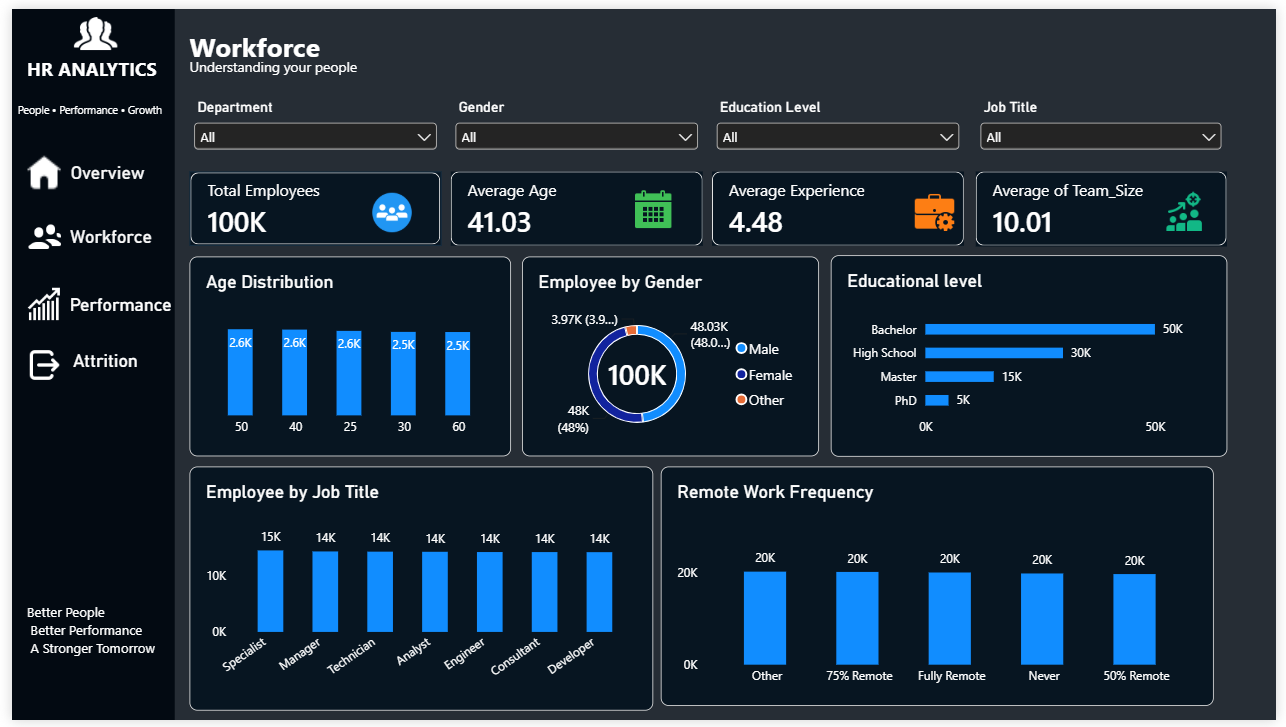

What the dashboard file says about the page in this screenshot:
{"tool":"powerbi","page":{"name":"Workforce","canvas":[1280,720],"ordinal":1},"visuals":[{"type":"shape","box":[0,0,165,720],"z":0},{"type":"textbox","box":[15.1,48,134.5,42.5],"z":1000},{"type":"textbox","box":[0,90.6,164.7,32.9],"z":2000},{"type":"actionButton","title":"Overview","box":[42.6,155.5,107.7,35.9],"z":3000},{"type":"actionButton","title":"Workforce","box":[47.4,220.1,106.7,31.1],"z":4000},{"type":"actionButton","title":"Performance","box":[54.1,289,111.5,26.8],"z":5000},{"type":"actionButton","title":"Attrition","box":[54.3,345.7,80.2,39.5],"z":6000},{"type":"textbox","box":[180,20,349.9,38.4],"z":7000},{"type":"textbox","box":[180,48,269,42.5],"z":8000},{"type":"slicer","fields":{"Values":["Extended_Employee_Performance_and_Productivity_Data.Department"]},"box":[179.8,90.6,255.2,70],"z":9000},{"type":"slicer","fields":{"Values":["Extended_Employee_Performance_and_Productivity_Data.Gender"]},"box":[444.6,90.6,255.2,64.5],"z":10000},{"type":"slicer","fields":{"Values":["Extended_Employee_Performance_and_Productivity_Data.Education_Level"]},"box":[709.4,90.6,255.2,64.5],"z":11000},{"type":"slicer","fields":{"Values":["Extended_Employee_Performance_and_Productivity_Data.Job_Title"]},"box":[975.6,90.6,253.9,64.5],"z":12000},{"type":"cardVisual","fields":{"Data":["CountNonNull(Extended_Employee_Performance_and_Productivity_Data.Employee_ID)"]},"box":[179.8,164.7,255.2,75.5],"z":13000},{"type":"cardVisual","fields":{"Data":["Avg(Extended_Employee_Performance_and_Productivity_Data.Age)"]},"box":[444.6,164.7,255.2,75.5],"z":14000},{"type":"cardVisual","fields":{"Data":["Avg(Extended_Employee_Performance_and_Productivity_Data.Years_At_Company)"]},"box":[709.4,164.7,255.2,75.5],"z":15000},{"type":"cardVisual","fields":{"Data":["Avg(Extended_Employee_Performance_and_Productivity_Data.Team_Size)"]},"box":[975.7,164.3,254.3,75.7],"z":16000},{"type":"clusteredColumnChart","title":"Age Distribution","fields":{"Category":["Extended_Employee_Performance_and_Productivity_Data.Age"],"Y":["Count(Extended_Employee_Performance_and_Productivity_Data.Employee_ID)"]},"box":[179.8,250.9,325.7,202.7],"z":17000},{"type":"donutChart","title":"Employee by Gender","fields":{"Category":["Extended_Employee_Performance_and_Productivity_Data.Gender"],"Y":["CountNonNull(Extended_Employee_Performance_and_Productivity_Data.Employee_ID)"]},"box":[516.4,250.9,300.4,202.7],"z":18000},{"type":"clusteredBarChart","title":"Educational level","fields":{"Category":["Extended_Employee_Performance_and_Productivity_Data.Education_Level"],"Y":["CountNonNull(Extended_Employee_Performance_and_Productivity_Data.Employee_ID)"]},"box":[828.8,249.7,401.7,203.9],"z":19000},{"type":"textbox","box":[15.1,599.7,144.1,120.8],"z":20000},{"type":"image","box":[354.3,185.7,60,40],"z":21000},{"type":"image","box":[10,145.9,44.5,39.7],"z":22000},{"type":"image","box":[15.3,211,35.7,40],"z":23000},{"type":"image","box":[10,282.8,44.5,33],"z":24000},{"type":"image","box":[2.5,340.7,60,40],"z":25000},{"type":"image","box":[59.2,4.2,50.7,43.7],"z":26000},{"type":"clusteredColumnChart","title":"Employee by Job Title","fields":{"Category":["Extended_Employee_Performance_and_Productivity_Data.Job_Title"],"Y":["CountNonNull(Extended_Employee_Performance_and_Productivity_Data.Employee_ID)"]},"box":[179.8,463.3,469.3,247.3],"z":27000},{"type":"clusteredColumnChart","title":"Remote  Work Frequency","fields":{"Category":["Extended_Employee_Performance_and_Productivity_Data.Remote Work Category"],"Y":["CountNonNull(Extended_Employee_Performance_and_Productivity_Data.Employee_ID)"]},"box":[657.5,463.3,559.8,242.5],"z":28000},{"type":"image","box":[618.9,183.9,60,40],"z":29000},{"type":"image","box":[904.3,185.2,60,40],"z":30000},{"type":"image","box":[1156.8,185.2,60,40],"z":31000}]}

Visuals, with their boxes in screenshot pixels (x1, y1, x2, y2), scaled from the page's 1280x720 canvas onto the 1286x727 screenshot:
shape: 0,0,166,726
textbox: 15,48,150,91
textbox: 0,91,165,125
"Overview" actionButton: 43,157,151,193
"Workforce" actionButton: 48,222,155,254
"Performance" actionButton: 54,292,166,319
"Attrition" actionButton: 55,349,135,389
textbox: 181,20,532,59
textbox: 181,48,451,91
slicer - Extended_Employee_Performance_and_Productivity_Data.Department: 181,91,437,162
slicer - Extended_Employee_Performance_and_Productivity_Data.Gender: 447,91,703,157
slicer - Extended_Employee_Performance_and_Productivity_Data.Education_Level: 713,91,969,157
slicer - Extended_Employee_Performance_and_Productivity_Data.Job_Title: 980,91,1235,157
cardVisual - CountNonNull(Extended_Employee_Performance_and_Productivity_Data.Employee_ID): 181,166,437,243
cardVisual - Avg(Extended_Employee_Performance_and_Productivity_Data.Age): 447,166,703,243
cardVisual - Avg(Extended_Employee_Performance_and_Productivity_Data.Years_At_Company): 713,166,969,243
cardVisual - Avg(Extended_Employee_Performance_and_Productivity_Data.Team_Size): 980,166,1236,242
"Age Distribution" clusteredColumnChart: 181,253,508,458
"Employee by Gender" donutChart: 519,253,821,458
"Educational level" clusteredBarChart: 833,252,1236,458
textbox: 15,606,160,726
image: 356,188,416,228
image: 10,147,55,187
image: 15,213,51,253
image: 10,286,55,319
image: 3,344,63,384
image: 59,4,110,48
"Employee by Job Title" clusteredColumnChart: 181,468,652,718
"Remote  Work Frequency" clusteredColumnChart: 661,468,1223,713
image: 622,186,682,226
image: 909,187,969,227
image: 1162,187,1223,227
